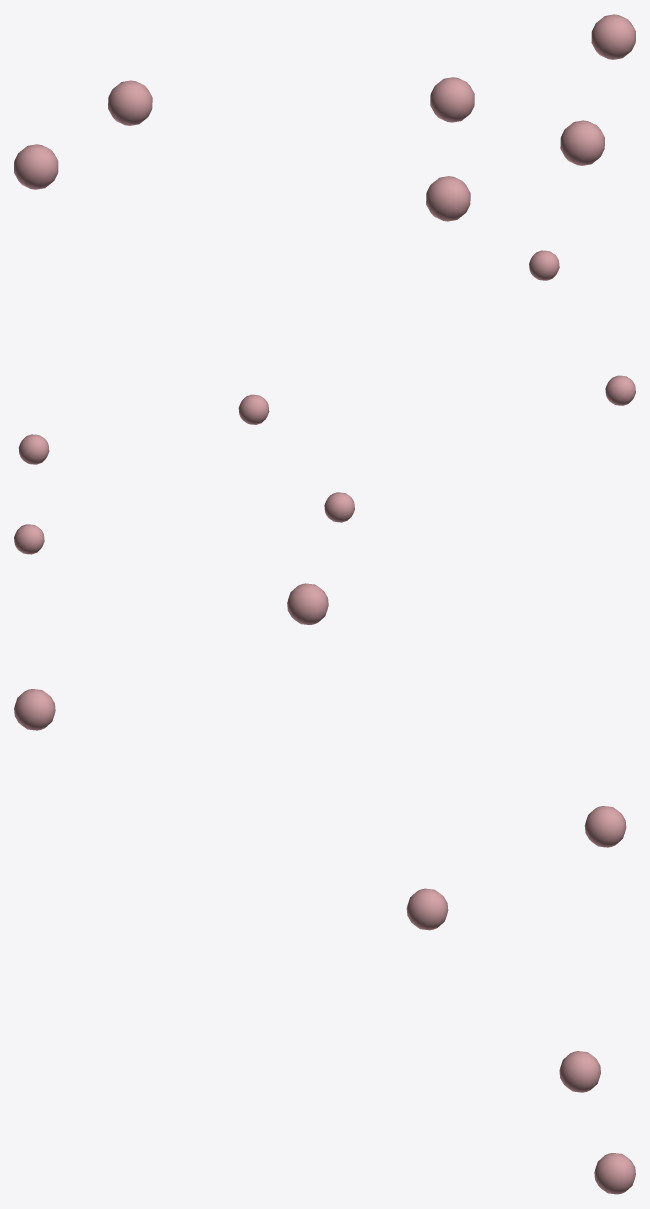
The picture shows the model from 3 angles, top to bottom: view 1: azimuth 30°, elevation 25°; view 2: azimuth 150°, elevation 25°; view 3: azimuth 270°, elevation 25°; orthographic projection. The views are drawn at different scales.
Parts seen in each view (by area): view 1: ZA_3c9d4f2ccb1f5e6e; view 2: ZA_3c9d4f2ccb1f5e6e; view 3: ZA_3c9d4f2ccb1f5e6e.
Boxes of the visible parts, bbox=[...] form: ZA_3c9d4f2ccb1f5e6e: bbox=[14, 14, 635, 221]; ZA_3c9d4f2ccb1f5e6e: bbox=[14, 250, 635, 554]; ZA_3c9d4f2ccb1f5e6e: bbox=[14, 583, 635, 1194].
Bounding box in the file's own units: 0.0499 × 0.0204 × 0.0383.
